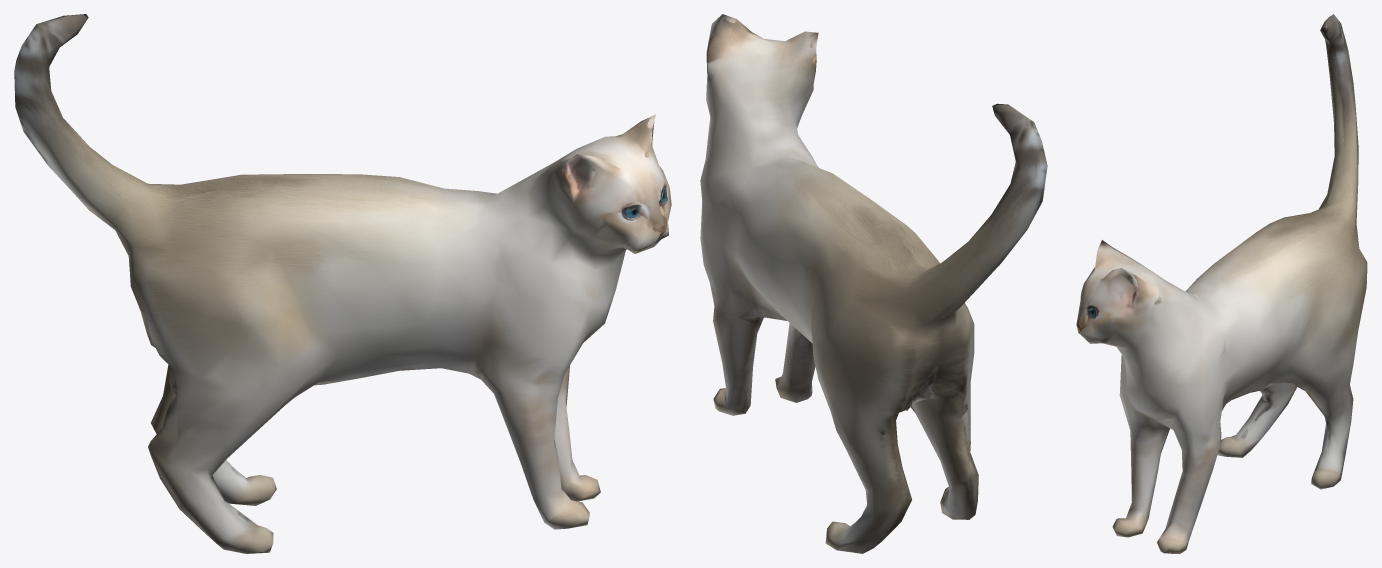
Rendered from cat_white_single_1500.glb.
The picture shows the model from 3 angles, left to right: view 1: azimuth 30°, elevation 25°; view 2: azimuth 150°, elevation 25°; view 3: azimuth 270°, elevation 25°; orthographic projection. The views are drawn at different scales.
Bounding box in the file's own units: 0.8629 × 0.8583 × 0.5693.
1 material, 1 textured.
